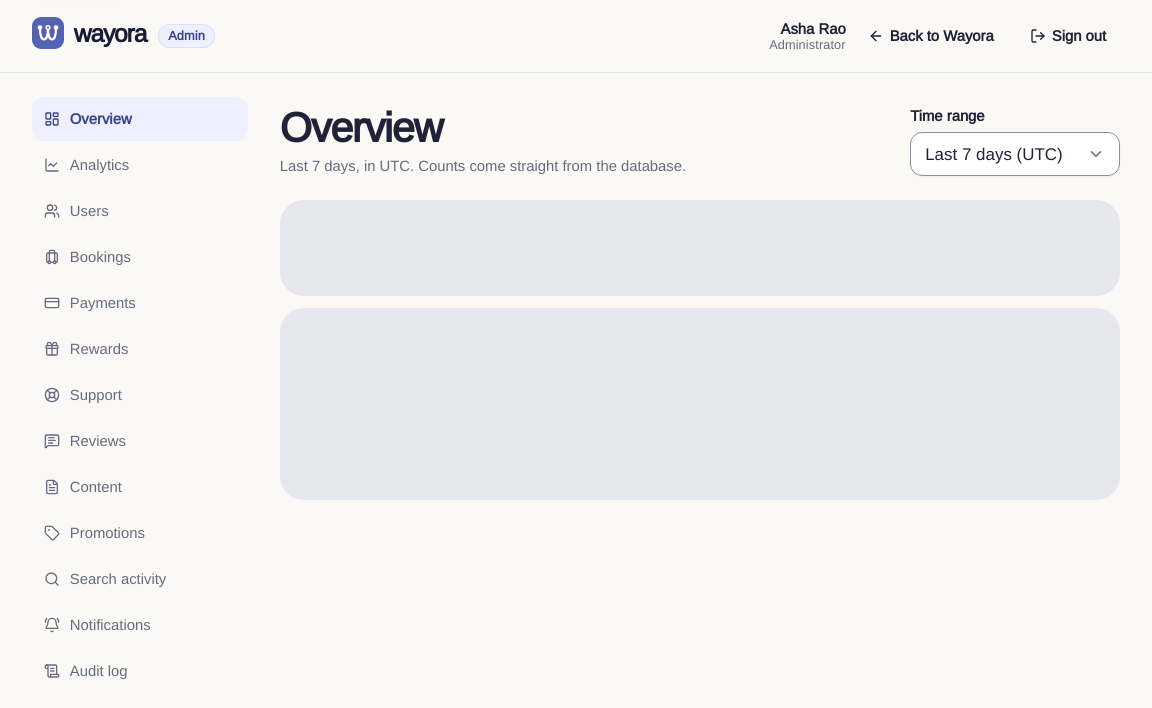
it: admin access (presentation follows the server) › a role revoked mid-session turns the next page into "no access"
expect the heading "Overview" is shown: met, box [280,102,442,151]
Step 1. Click the link "Users" → (76, 210), box [44,201,108,219]
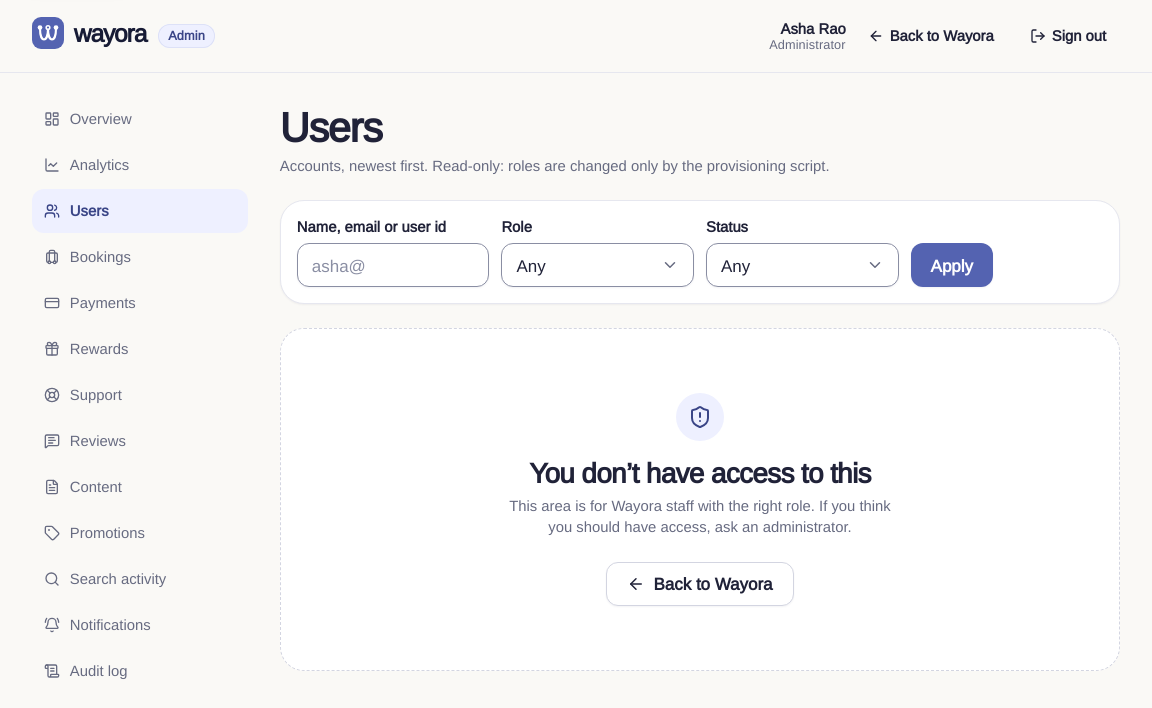
expect the heading "You don’t have access to this" is shown: met, box [508,457,892,489]
